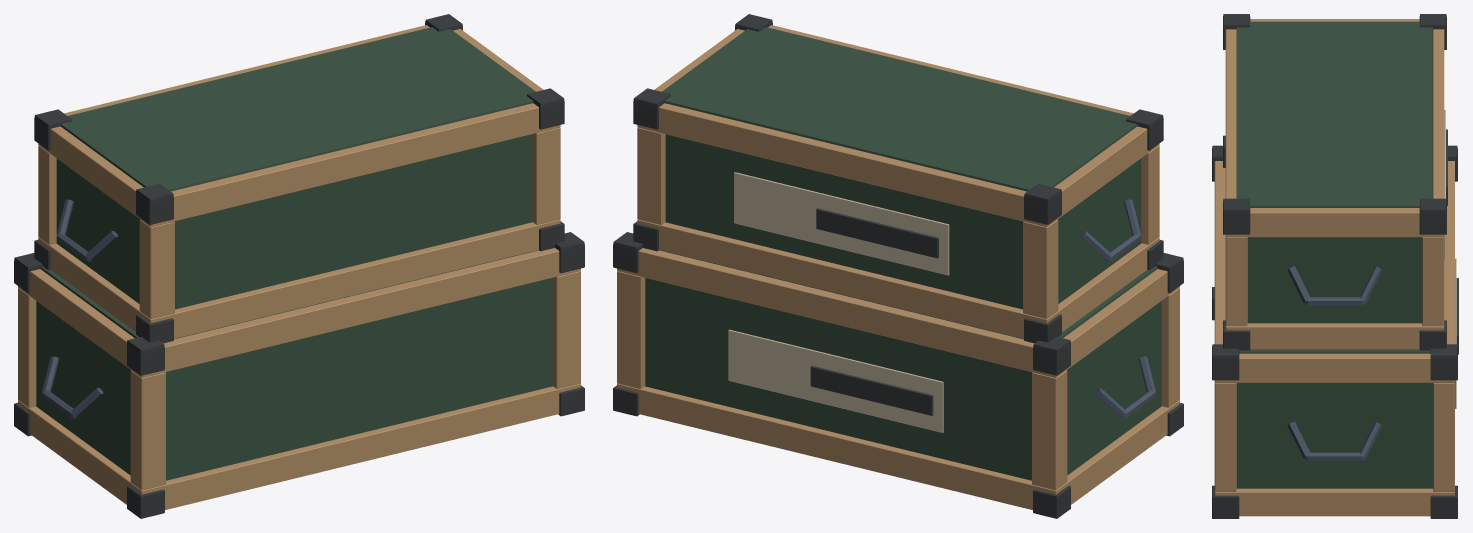
The model's file is prop_loot_weapon_crate.glb.
The picture shows the model from 3 angles, left to right: view 1: azimuth 30°, elevation 25°; view 2: azimuth 150°, elevation 25°; view 3: azimuth 270°, elevation 25°; orthographic projection. The views are drawn at different scales.
Visible parts, largest first — view 1: Crates; view 2: Crates; view 3: Crates.
Part boxes in pixels (x1,y1,x2,y2): Crates: (14,14,584,518); Crates: (613,14,1183,518); Crates: (1212,14,1458,518).
Bounding box in the file's own units: 0.9939 × 0.6105 × 0.452.
